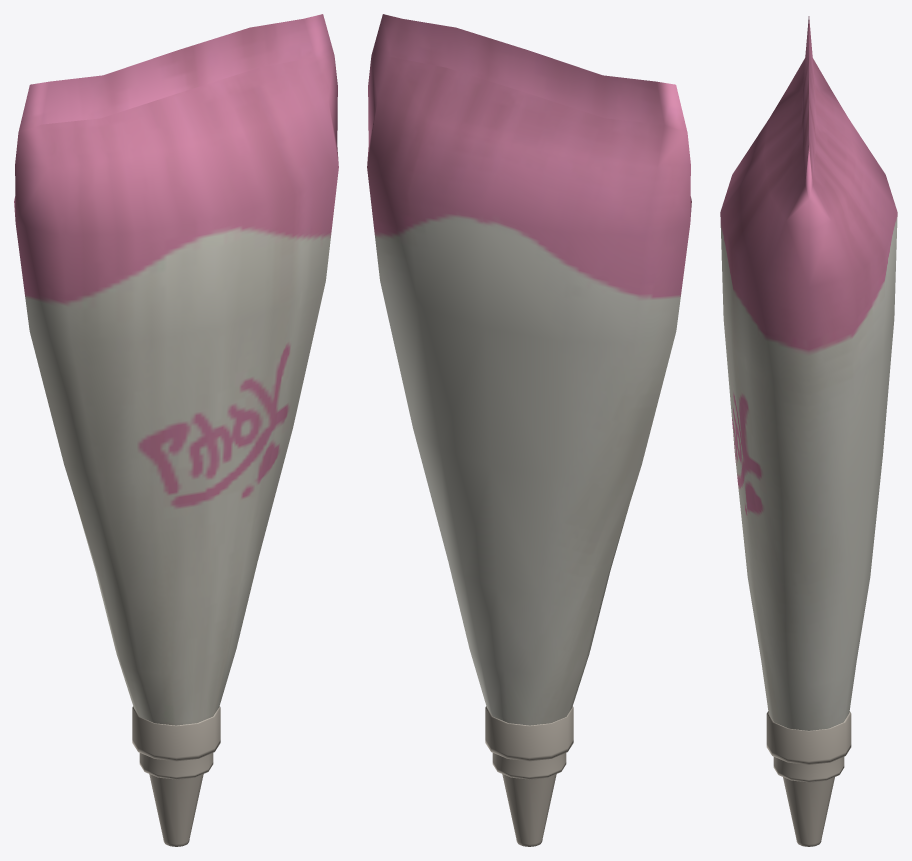
The model's file is pi_whippedcream01.gltf.
The picture shows the model from 3 angles, left to right: view 1: azimuth 30°, elevation 25°; view 2: azimuth 150°, elevation 25°; view 3: azimuth 270°, elevation 25°; orthographic projection. The views are drawn at different scales.
Parts seen in each view (by area): view 1: um_pi_whippedcream01_model_pi_whippedcream01_modelShape:pi_w; view 2: um_pi_whippedcream01_model_pi_whippedcream01_modelShape:pi_w; view 3: um_pi_whippedcream01_model_pi_whippedcream01_modelShape:pi_w.
Part boxes in pixels (box(x1,y1,x2,y2)): um_pi_whippedcream01_model_pi_whippedcream01_modelShape:pi_w: box(14, 14, 338, 846); um_pi_whippedcream01_model_pi_whippedcream01_modelShape:pi_w: box(367, 14, 691, 846); um_pi_whippedcream01_model_pi_whippedcream01_modelShape:pi_w: box(720, 16, 897, 846).
Bounding box in the file's own units: 0.0984 × 0.2319 × 0.0489.
Materials: 1 (1 with a texture image).
